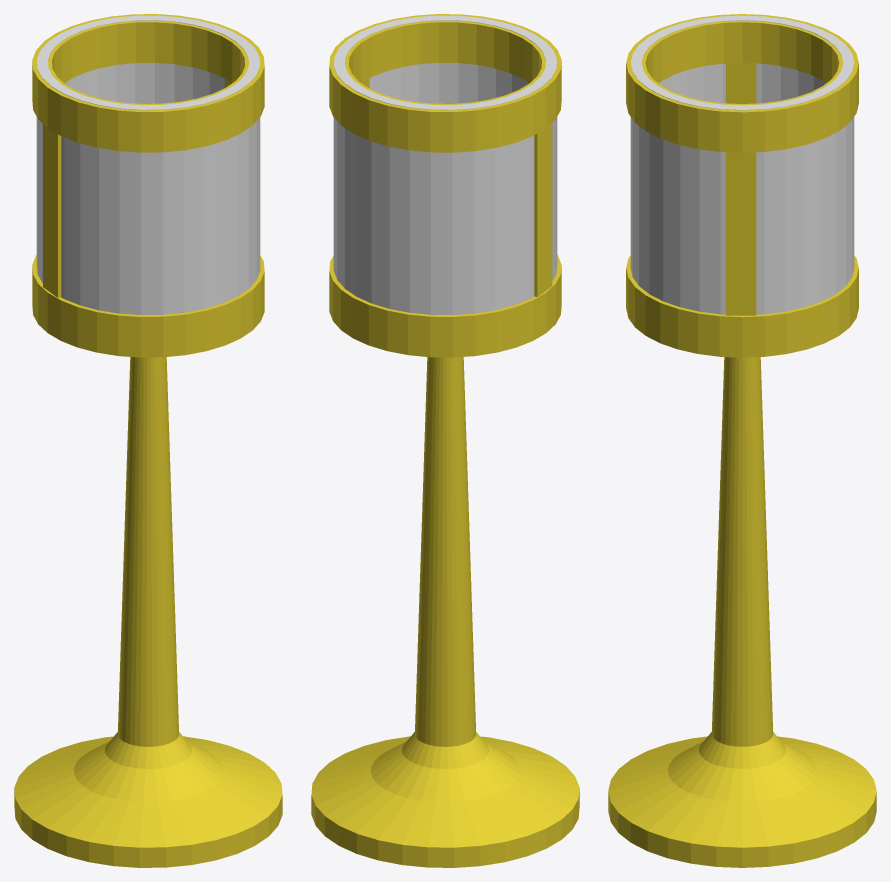
Rendered from LampHolder.fbx.
The picture shows the model from 3 angles, left to right: view 1: azimuth 30°, elevation 25°; view 2: azimuth 150°, elevation 25°; view 3: azimuth 270°, elevation 25°; orthographic projection.
Parts seen in each view (by area): view 1: Cylinder.001, Cylinder.002, Cylinder, Cylinder.004, Cylinder.003, Cylinder.005, Cube; view 2: Cylinder.001, Cylinder.002, Cylinder, Cylinder.004, Cylinder.003, Cylinder.005, Cube; view 3: Cylinder.001, Cylinder.002, Cylinder, Cylinder.004, Cylinder.003, Cylinder.005, Cube.001, Cube.
Part boxes in pixels (box(x1,y1,x2,y2)): Cylinder.001: box(36, 15, 260, 315); Cylinder.002: box(14, 732, 282, 867); Cylinder: box(117, 357, 179, 746); Cylinder.004: box(32, 14, 264, 152); Cylinder.003: box(32, 255, 264, 357); Cylinder.005: box(48, 20, 248, 105); Cube: box(43, 124, 61, 297); Cylinder.001: box(333, 15, 557, 315); Cylinder.002: box(311, 732, 579, 867); Cylinder: box(414, 357, 476, 746); Cylinder.004: box(329, 14, 561, 152); Cylinder.003: box(329, 255, 561, 357); Cylinder.005: box(345, 20, 545, 105); Cube: box(534, 123, 552, 296); Cylinder.001: box(630, 15, 854, 314); Cylinder.002: box(608, 732, 876, 867); Cylinder: box(711, 357, 773, 746); Cylinder.004: box(626, 14, 858, 152); Cylinder.003: box(626, 255, 858, 357); Cylinder.005: box(642, 20, 842, 105); Cube.001: box(726, 152, 756, 315); Cube: box(726, 62, 756, 103).
Bounding box in the file's own units: 120 × 369 × 120.
